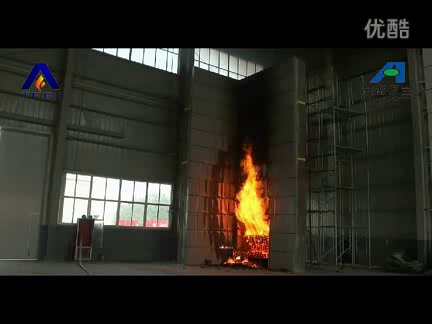fire: (234, 145, 270, 237)
